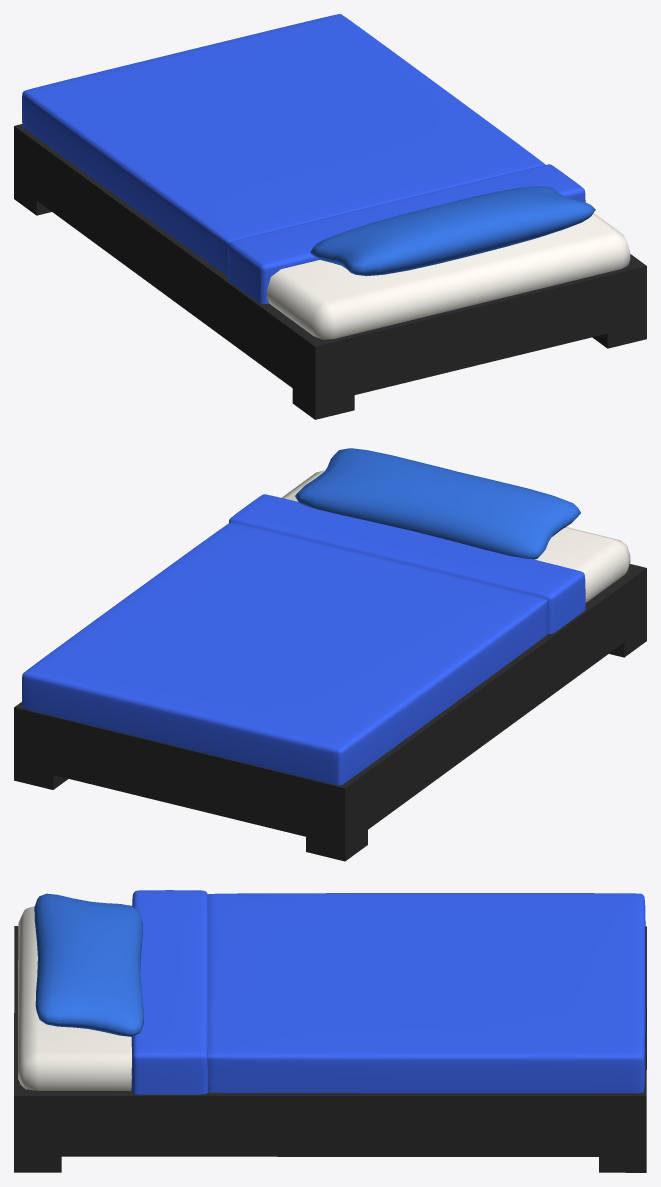
The model's file is Cama.glb.
3 views of the same model, one above another, from view 1: azimuth 30°, elevation 25°; view 2: azimuth 150°, elevation 25°; view 3: azimuth 270°, elevation 25° (orthographic). The views are drawn at different scales.
Visible parts, largest first — view 1: Habitacion_Cama; view 2: Habitacion_Cama; view 3: Habitacion_Cama.
Boxes of the visible parts, x1,y1,x2,y2 form: Habitacion_Cama: (14,14,646,419); Habitacion_Cama: (14,448,646,861); Habitacion_Cama: (14,890,646,1172).
Size of the model in its own units: 2.06 by 0.8473 by 3.24.
